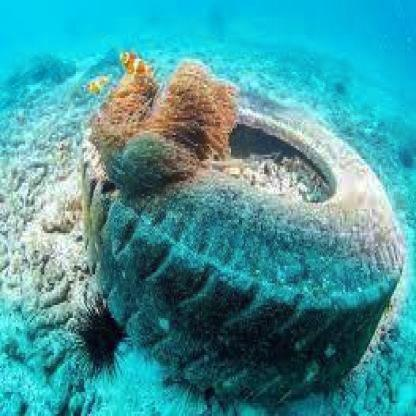tire: (89, 60, 404, 408)
